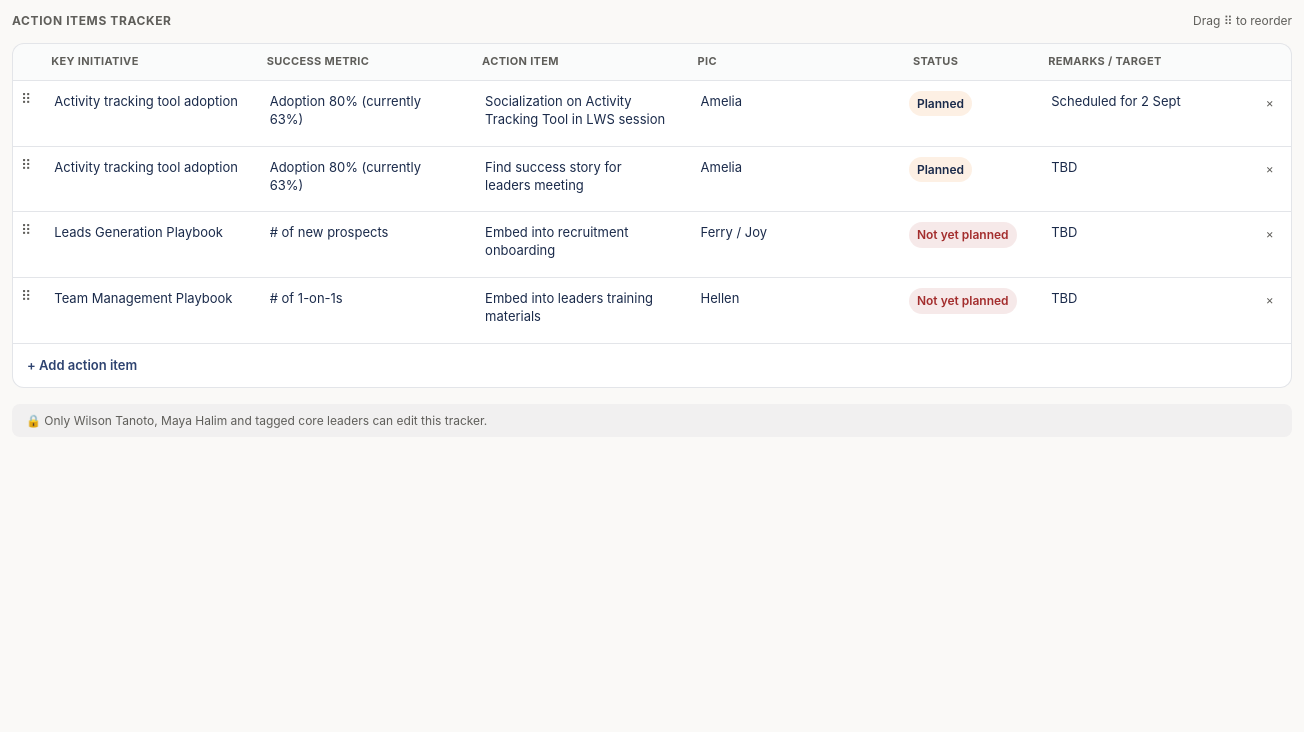
Test: P18.1-T2 AC-6 writing the tracker › × removes the row at once, *"Row removed"*, the focus on the next row’s ×
Click the button named "Remove row 2".
click(1270, 169)  # box [1256, 155, 1284, 183]
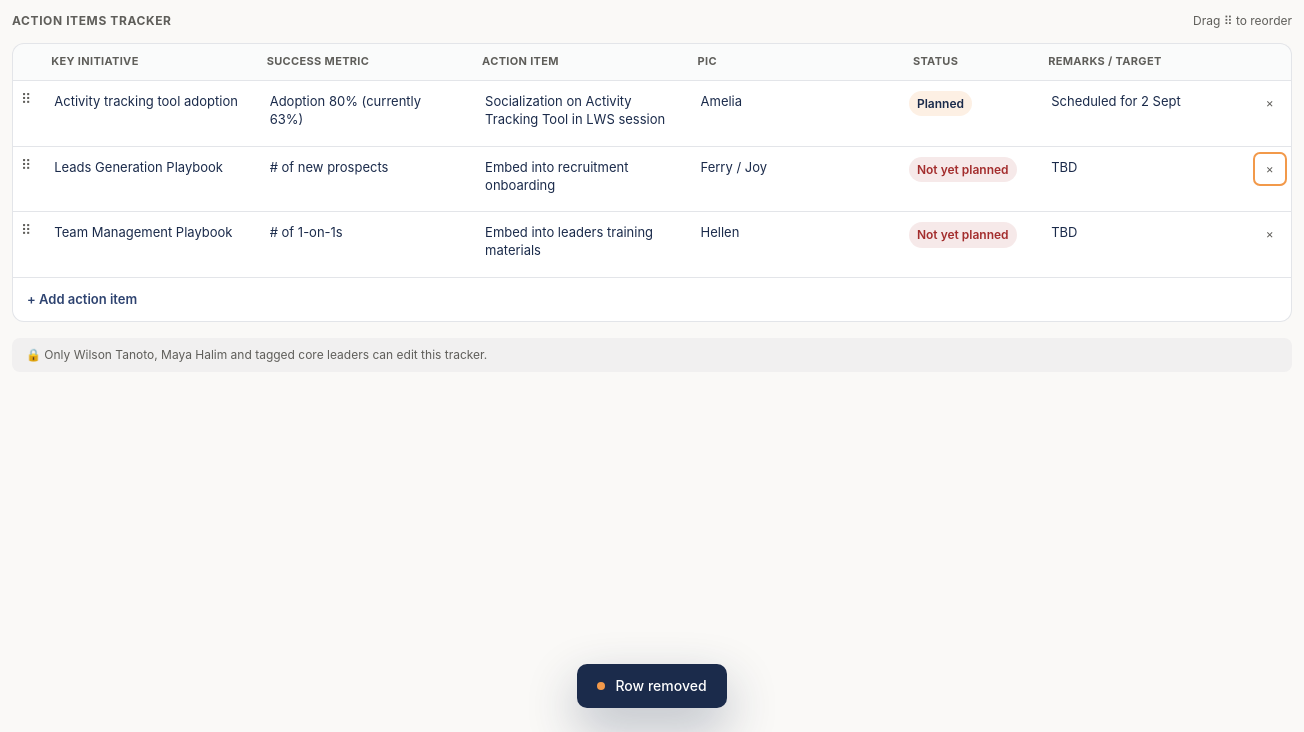
Check: the text "Row removed" is shown, box [577, 664, 726, 708]
